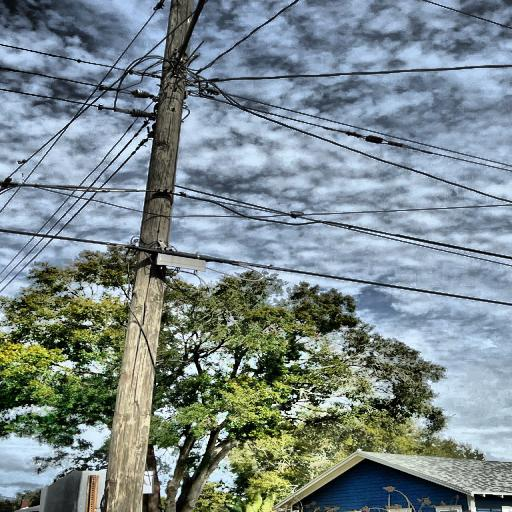pole: (62, 0, 210, 512)
street light: (168, 0, 248, 75)
